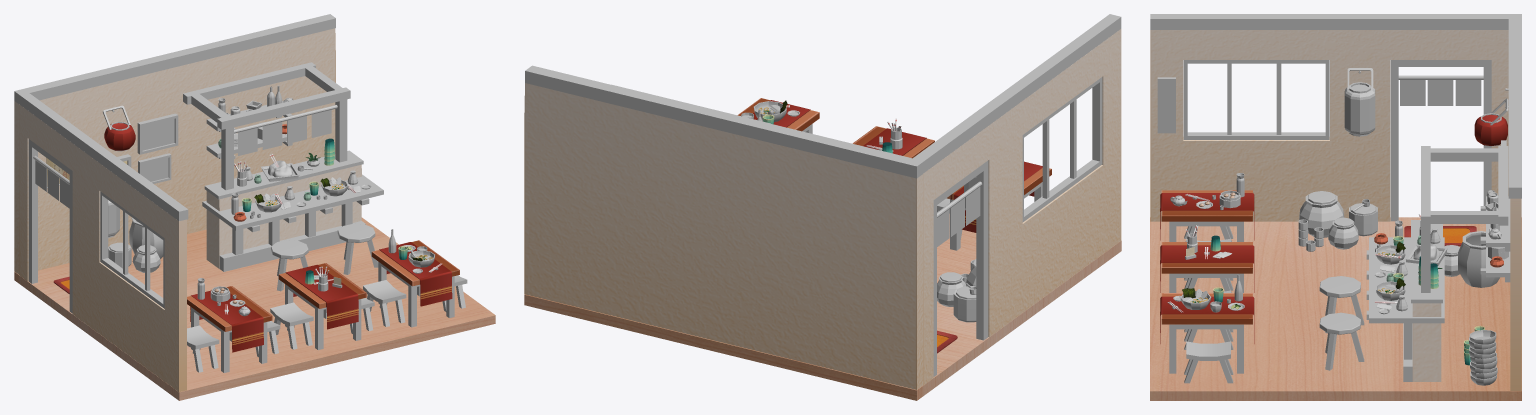
The model's file is La Myra_2201811920_Animation Studio II Final Project.fbx.
3 renders of one model, left to right at view 1: azimuth 30°, elevation 25°; view 2: azimuth 150°, elevation 25°; view 3: azimuth 270°, elevation 25°, orthographic. The views are drawn at different scales.
Visible parts, largest first — view 1: polySurface20, pPlane33, polySurface18, pCube75, pCube248, pCube114, pCube247, pPlane46, pPlane47, pCube133, pPlane30, pCube236 (+20 smaller); view 2: polySurface20, polySurface18, pCube248, pPlane33, pCube247, pCube236, pPlane46, pCube254, pCylinder23, pCube237, pCube317, pCube69 (+1 smaller); view 3: pPlane33, polySurface18, pCube248, pCube75, pCube114, pCube247, pCube236, polySurface20, pCylinder172, pPlane46, pCylinder24, pCube318 (+28 smaller).
Part boxes in pixels (x1=…): polySurface20: x1=14, y1=28, x2=335, y2=274; pPlane33: x1=14, y1=217, x2=495, y2=400; polySurface18: x1=19, y1=104, x2=186, y2=392; pCube75: x1=202, y1=150, x2=383, y2=268; pCube248: x1=14, y1=14, x2=335, y2=221; pCube114: x1=183, y1=62, x2=350, y2=190; pCube247: x1=28, y1=139, x2=72, y2=313; pPlane46: x1=285, y1=264, x2=358, y2=329; pPlane47: x1=190, y1=290, x2=263, y2=352; pCube133: x1=219, y1=221, x2=365, y2=271; pPlane30: x1=379, y1=242, x2=452, y2=306; pCube236: x1=100, y1=191, x2=164, y2=308; polySurface20: x1=524, y1=83, x2=923, y2=389; polySurface18: x1=923, y1=29, x2=1121, y2=385; pCube248: x1=525, y1=14, x2=1121, y2=178; pPlane33: x1=524, y1=214, x2=1121, y2=400; pCube247: x1=933, y1=160, x2=988, y2=376; pCube236: x1=1022, y1=77, x2=1102, y2=222; pPlane46: x1=863, y1=128, x2=926, y2=155; pCube254: x1=1042, y1=119, x2=1049, y2=198; pCylinder23: x1=953, y1=289, x2=976, y2=322; pCube237: x1=1070, y1=99, x2=1076, y2=178; pCube317: x1=853, y1=126, x2=934, y2=158; pCube69: x1=737, y1=98, x2=819, y2=131; pPlane33: x1=1150, y1=217, x2=1521, y2=400; polySurface18: x1=1150, y1=30, x2=1508, y2=221; pCube248: x1=1150, y1=14, x2=1521, y2=198; pCube75: x1=1369, y1=220, x2=1444, y2=381; pCube114: x1=1421, y1=146, x2=1508, y2=292; pCube247: x1=1390, y1=60, x2=1491, y2=221; pCube236: x1=1183, y1=60, x2=1329, y2=139; polySurface20: x1=1510, y1=198, x2=1521, y2=390; pCylinder172: x1=1344, y1=82, x2=1375, y2=136; pPlane46: x1=1160, y1=245, x2=1254, y2=292; pCylinder24: x1=1458, y1=231, x2=1499, y2=287; pCube318: x1=1161, y1=190, x2=1252, y2=221.
Bounding box in the file's own units: 42.63 × 24.33 × 38.5.
